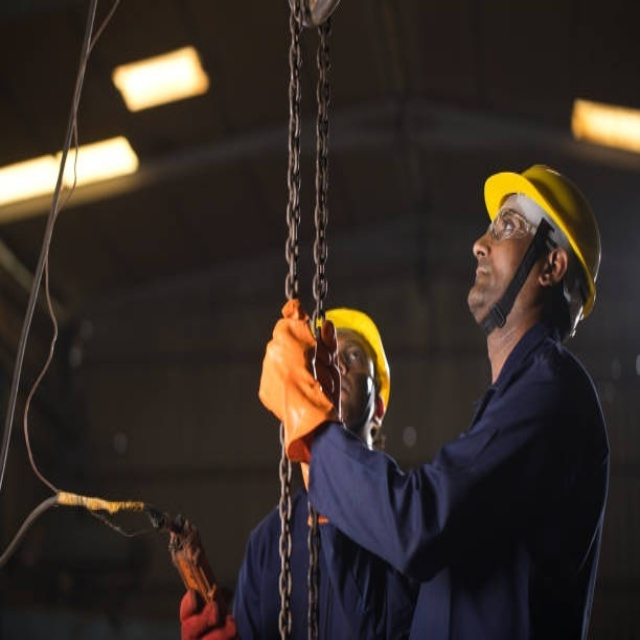Gafas: (492, 209, 552, 249)
Guantes: (258, 297, 341, 463), (180, 586, 238, 640)
Sin_gafas: (344, 331, 375, 383)
Sin_mascara: (466, 251, 498, 307)
